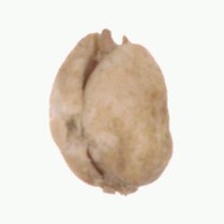L1: (75, 27, 137, 86), (87, 172, 144, 196)
L2: (48, 29, 174, 196)
